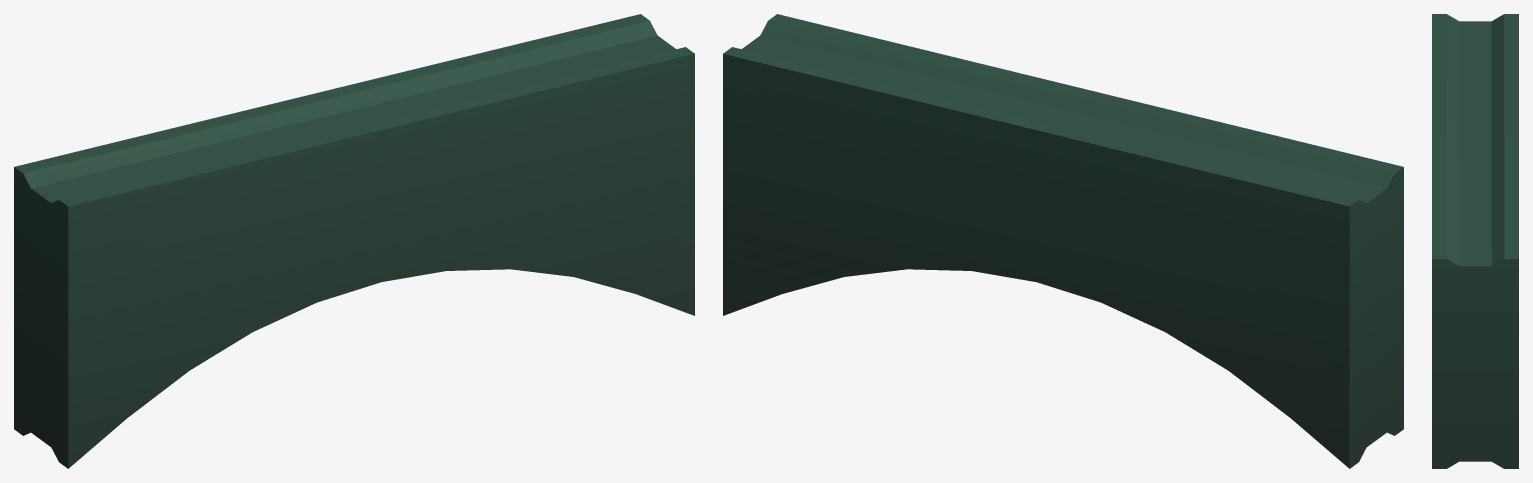
The model's file is SM_Bridge_01.fbx.
The picture shows the model from 3 angles, left to right: view 1: azimuth 30°, elevation 25°; view 2: azimuth 150°, elevation 25°; view 3: azimuth 270°, elevation 25°; orthographic projection. The views are drawn at different scales.
Visible parts, largest first — view 1: SM_Bridge_01; view 2: SM_Bridge_01; view 3: SM_Bridge_01.
Boxes of the visible parts, x1,y1,x2,y2 form: SM_Bridge_01: (14, 14, 694, 468); SM_Bridge_01: (723, 14, 1403, 468); SM_Bridge_01: (1432, 14, 1518, 468).
Size of the model in its own units: 1000 by 400 by 150.
1 material, 1 textured.
